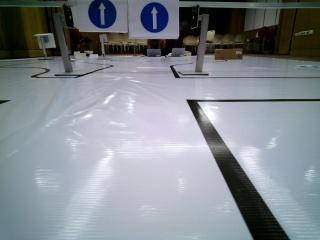straight: (129, 0, 176, 38), (82, 0, 124, 31)
